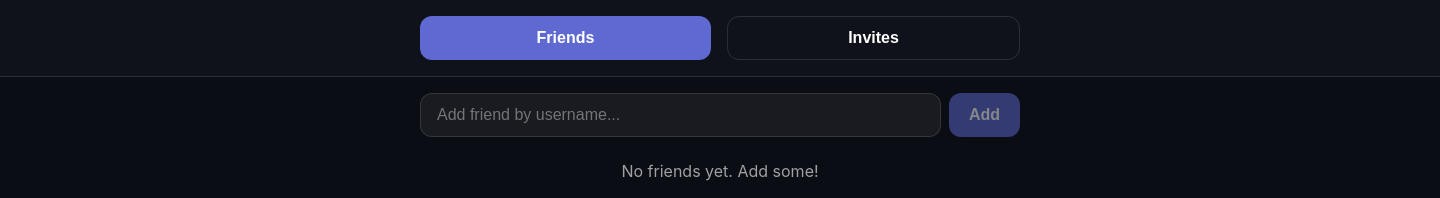
Home Component › switches to invites tab
This screenshot has width=1440, height=198.
Click the button "Invites". click: {"x": 874, "y": 38}
box: [727,16,1020,60]
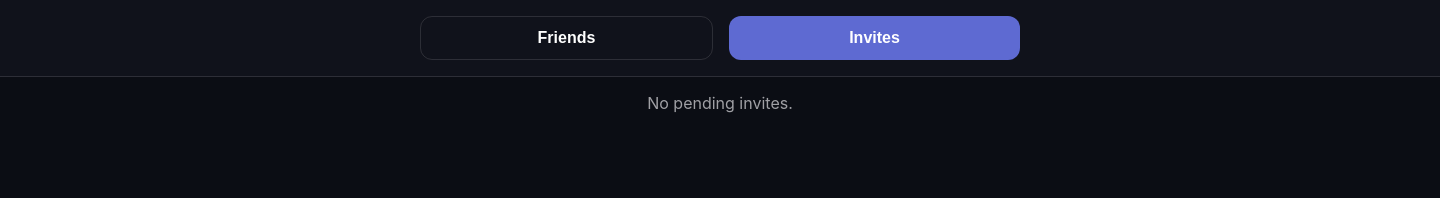
Expected: the text "No pending invites." is shown, [647,93,793,113]
